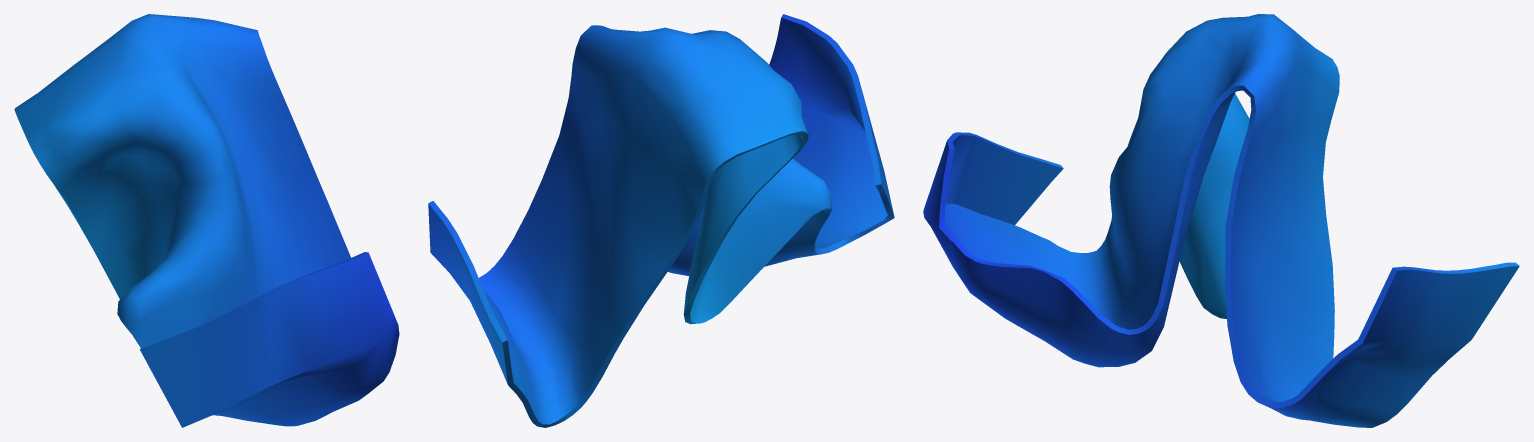
The model's file is s1_lh_underglow_torso.fbx.
The picture shows the model from 3 angles, left to right: view 1: azimuth 30°, elevation 25°; view 2: azimuth 150°, elevation 25°; view 3: azimuth 270°, elevation 25°; orthographic projection. The views are drawn at different scales.
Visible parts, largest first — view 1: s1_lh_underglow_torso; view 2: s1_lh_underglow_torso; view 3: s1_lh_underglow_torso.
Boxes of the visible parts, box(x1,y1,x2,y2) form: s1_lh_underglow_torso: box(14, 14, 399, 427); s1_lh_underglow_torso: box(428, 14, 894, 427); s1_lh_underglow_torso: box(923, 14, 1519, 427).
Size of the model in its own units: 183 by 209 by 299.
